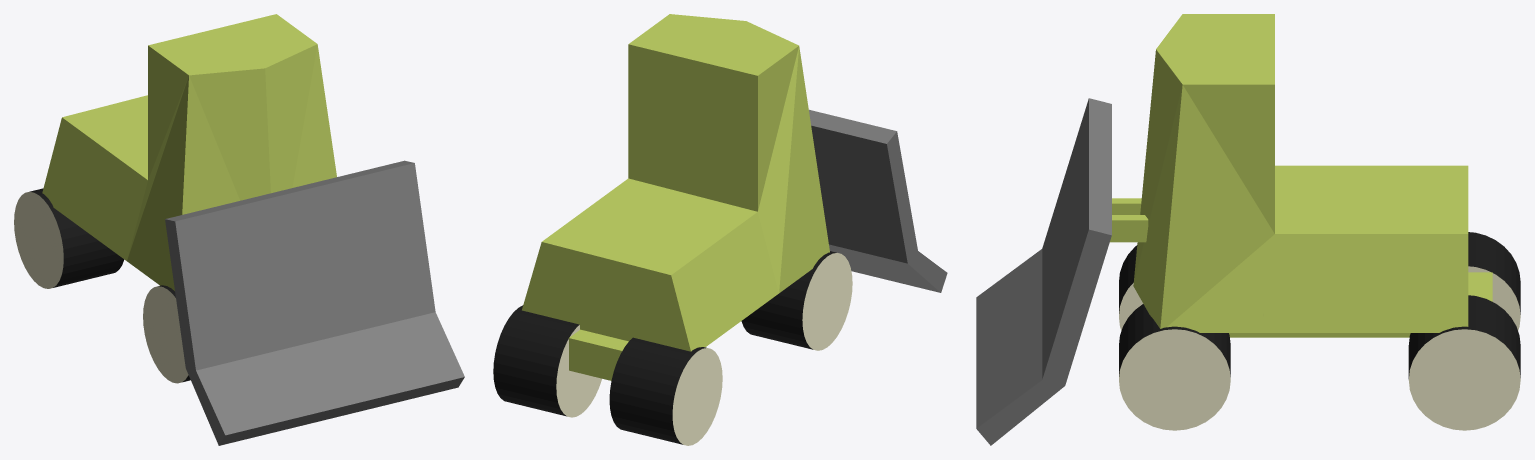
File: snowplow.obj
3 views of the same model, side by side, from view 1: azimuth 30°, elevation 25°; view 2: azimuth 150°, elevation 25°; view 3: azimuth 270°, elevation 25° (orthographic). The views are drawn at different scales.
Parts seen in each view (by area): view 1: 除雪車; view 2: 除雪車; view 3: 除雪車.
Boxes of the visible parts, x1,y1,x2,y2 form: 除雪車: (14, 14, 464, 445); 除雪車: (493, 14, 947, 445); 除雪車: (976, 14, 1520, 445).
Size of the model in its own units: 5.56 by 6.56 by 9.73.
Materials: 1 (1 with a texture image).
